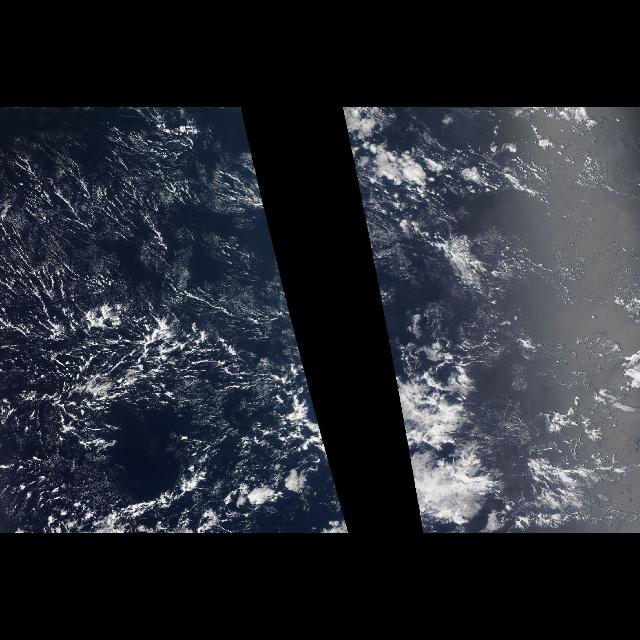Fish: (26, 328, 300, 448)
Sugar: (0, 109, 280, 464)
